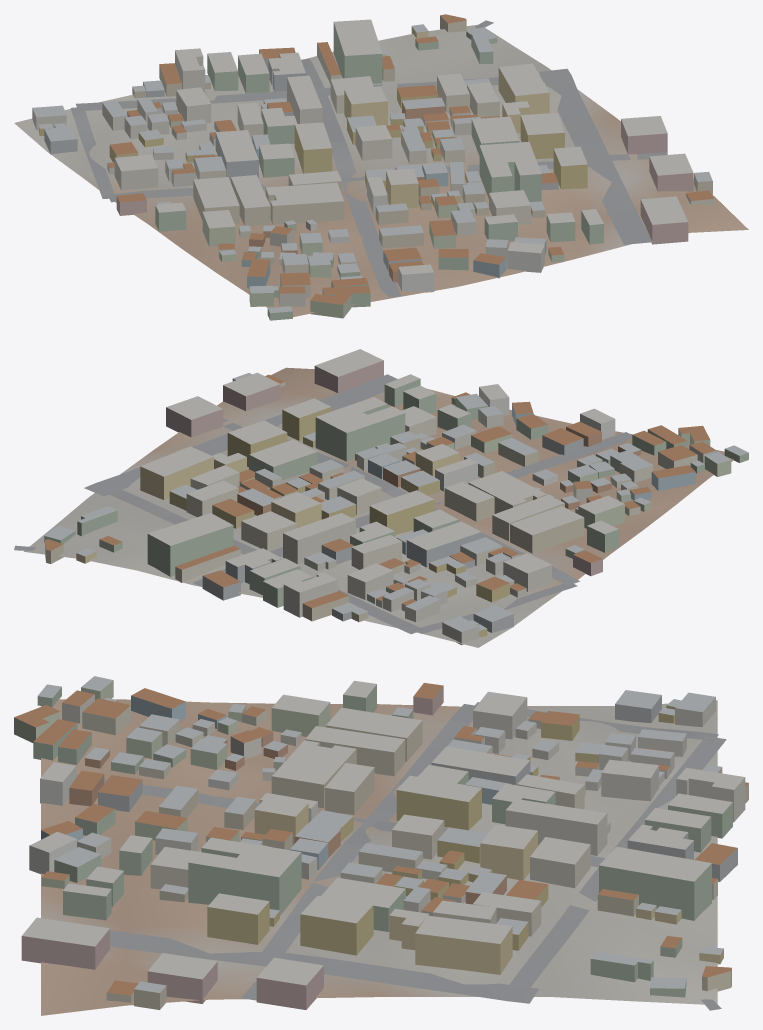
3 renders of one model, top to bottom at view 1: azimuth 30°, elevation 25°; view 2: azimuth 150°, elevation 25°; view 3: azimuth 270°, elevation 25°, orthographic. The views are drawn at different scales.
Parts seen in each view (by area): view 1: Lo; view 2: Lo; view 3: Lo.
Boxes of the visible parts, x1,y1,x2,y2 form: Lo: (14, 14, 748, 320); Lo: (14, 349, 748, 647); Lo: (14, 676, 748, 1015).
Bounding box in the file's own units: 272 × 25.9 × 278.
